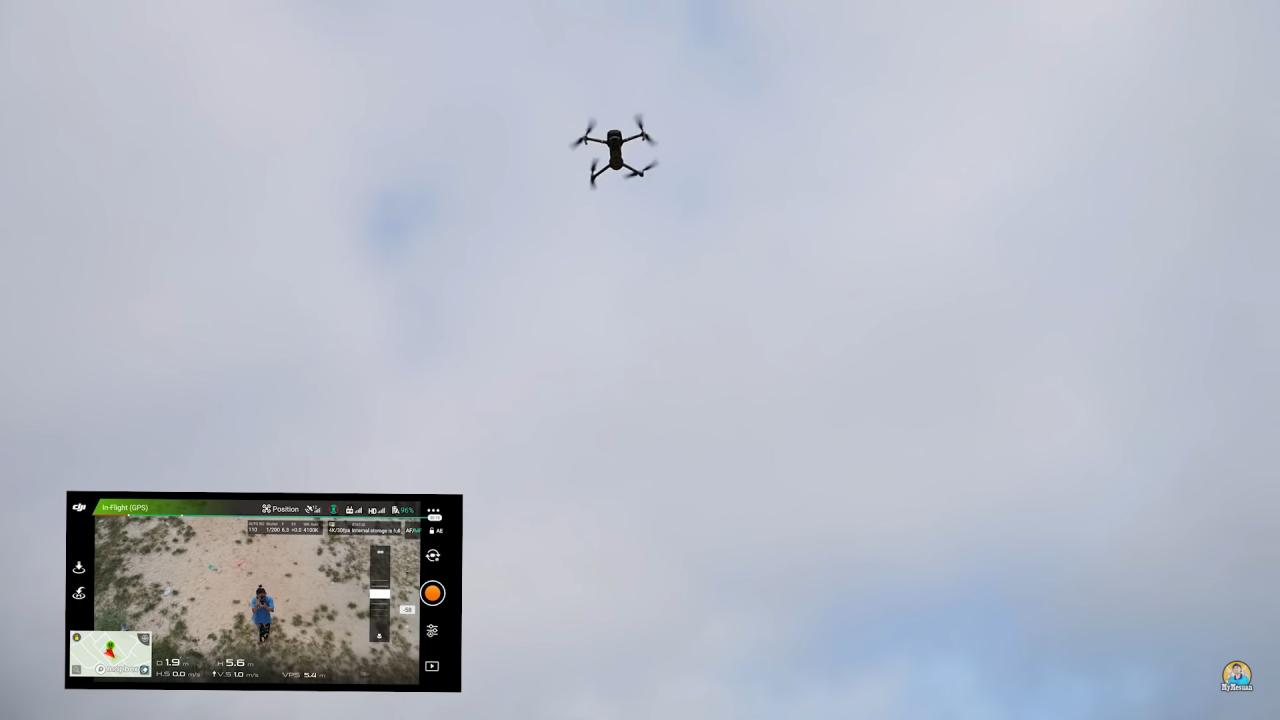Drone: (557, 105, 672, 200)
